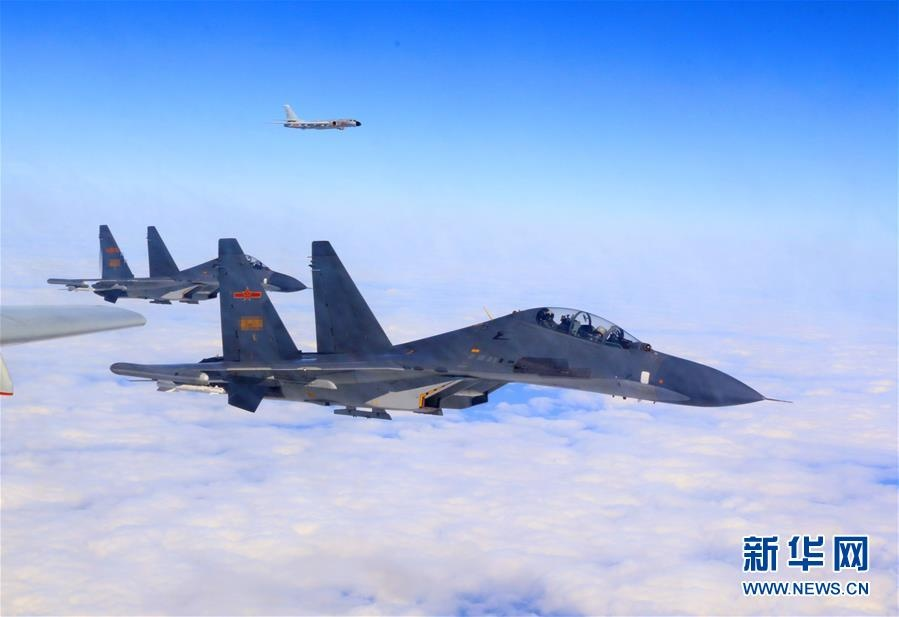airplane: (101, 233, 791, 428), (35, 211, 306, 303), (267, 99, 365, 131)
